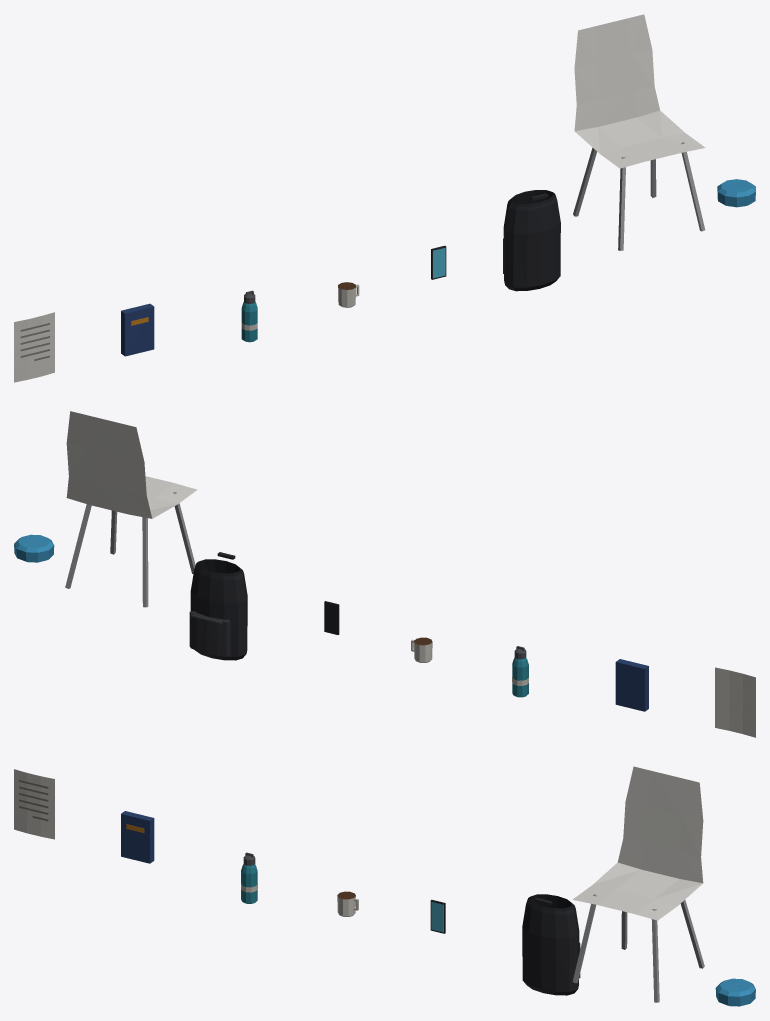
The model's file is objets.glb.
3 views of the same model, one above another, from view 1: azimuth 30°, elevation 25°; view 2: azimuth 150°, elevation 25°; view 3: azimuth 330°, elevation 25° (orthographic).
Parts seen in each view (by area): view 1: chair, bag, paper, book, stool, bottle; view 2: chair, bag, paper, book, stool, bottle; view 3: chair, bag, paper, book, stool, bottle, phone, mug.
Boxes of the visible parts, x1,y1,x2,y2 form: chair: [573, 14, 705, 250]; bag: [503, 190, 560, 291]; paper: [14, 312, 54, 382]; book: [121, 303, 154, 356]; stool: [717, 179, 755, 207]; bottle: [241, 290, 257, 342]; chair: [65, 411, 197, 607]; bag: [189, 552, 247, 660]; paper: [715, 667, 755, 737]; book: [615, 659, 648, 711]; stool: [14, 534, 54, 562]; bottle: [512, 646, 528, 697]; chair: [572, 766, 704, 1002]; bag: [522, 894, 580, 995]; paper: [14, 769, 54, 839]; book: [121, 811, 154, 863]; stool: [715, 978, 755, 1006]; bottle: [241, 852, 257, 903]; phone: [430, 899, 445, 933]; mug: [337, 891, 358, 916].
Size of the model in its own units: 3.8 by 1.1 by 0.46.
